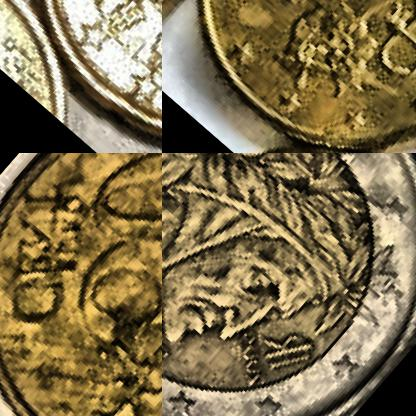coin: (162, 153, 415, 415), (0, 153, 161, 415), (162, 0, 415, 152), (0, 0, 161, 152)
